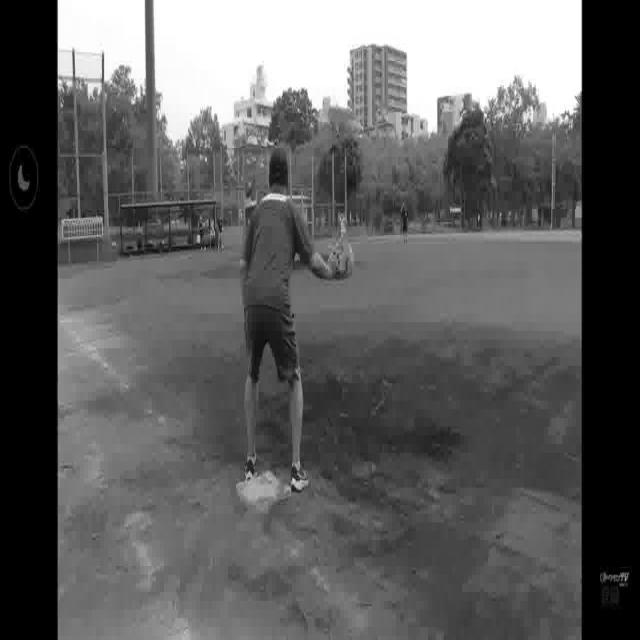base: (232, 470, 300, 523)
baseball_glove: (322, 235, 360, 280)
shoe: (290, 463, 314, 490), (242, 456, 262, 484)
